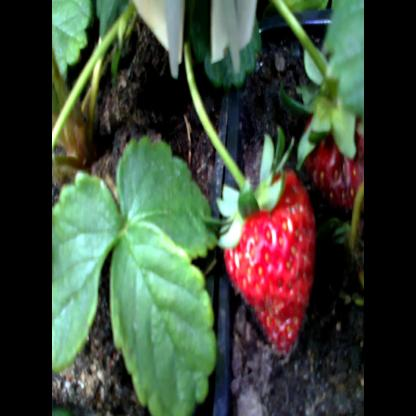ripe: (218, 155, 317, 365), (300, 105, 363, 210)
